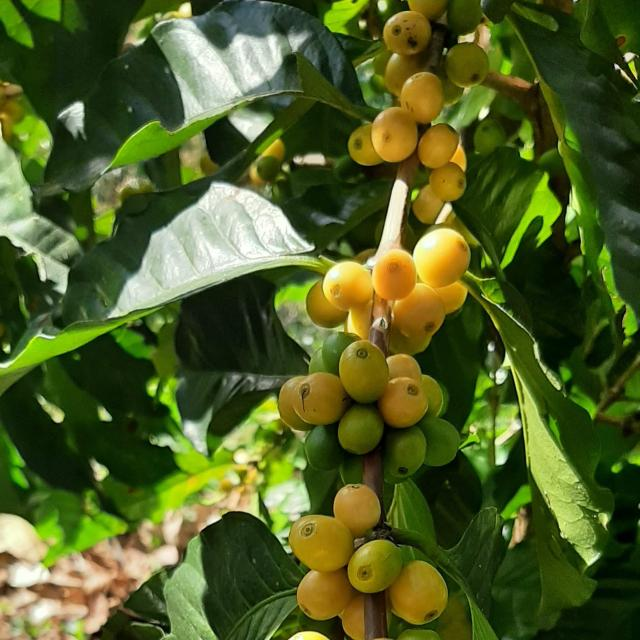green: (338, 404, 384, 455), (309, 332, 361, 376), (384, 426, 427, 479), (419, 417, 460, 467), (445, 42, 490, 87), (305, 424, 345, 472), (448, 0, 484, 34), (423, 375, 444, 418), (397, 629, 442, 640)
red: (389, 561, 449, 626), (414, 227, 471, 288), (297, 569, 355, 622), (393, 283, 446, 337), (372, 106, 418, 162), (323, 261, 374, 311), (334, 485, 381, 539), (372, 249, 418, 301), (400, 71, 444, 123), (418, 123, 460, 168), (435, 281, 468, 315), (340, 595, 364, 640)
yellow: (289, 516, 354, 573), (339, 340, 390, 404), (292, 373, 352, 426), (348, 541, 403, 594), (378, 377, 429, 429), (383, 10, 432, 55), (306, 281, 348, 328), (278, 376, 313, 432), (385, 52, 425, 96), (348, 123, 384, 165), (430, 161, 467, 201), (412, 184, 445, 224), (389, 326, 432, 356), (387, 354, 423, 384), (347, 300, 373, 340)
